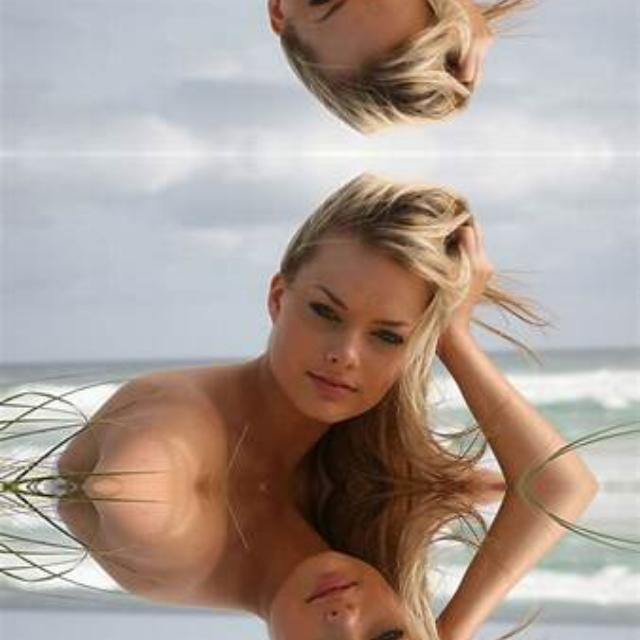person: (215, 164, 528, 486), (214, 486, 527, 640), (214, 0, 527, 142)
